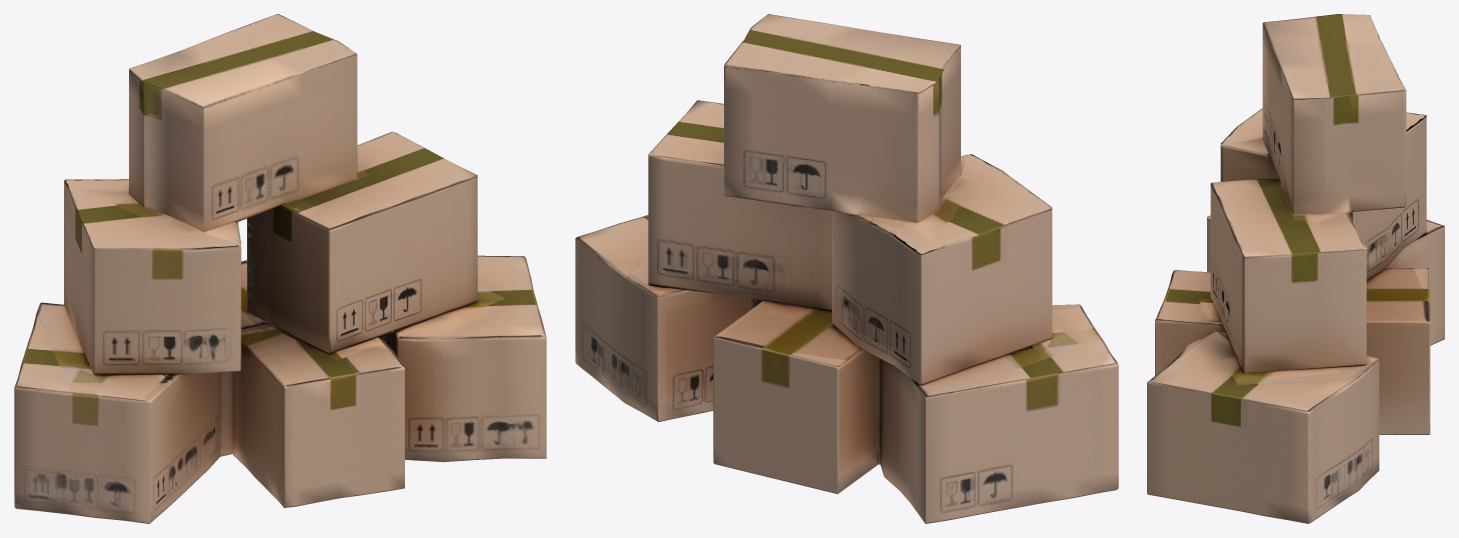
File: Meshy_AI_Stacked_Cardboard_Box_0107164221_texture.fbx
3 views of the same model, side by side, from view 1: azimuth 30°, elevation 25°; view 2: azimuth 150°, elevation 25°; view 3: azimuth 270°, elevation 25° (orthographic). The views are drawn at different scales.
Parts seen in each view (by area): view 1: Mesh_0; view 2: Mesh_0; view 3: Mesh_0.
Part boxes in pixels (x1,y1,x2,y2): Mesh_0: [14, 14, 546, 523]; Mesh_0: [575, 14, 1118, 523]; Mesh_0: [1147, 14, 1444, 523].
Size of the model in its own units: 191 by 132 by 103.
Materials: 1 (1 with a texture image).
